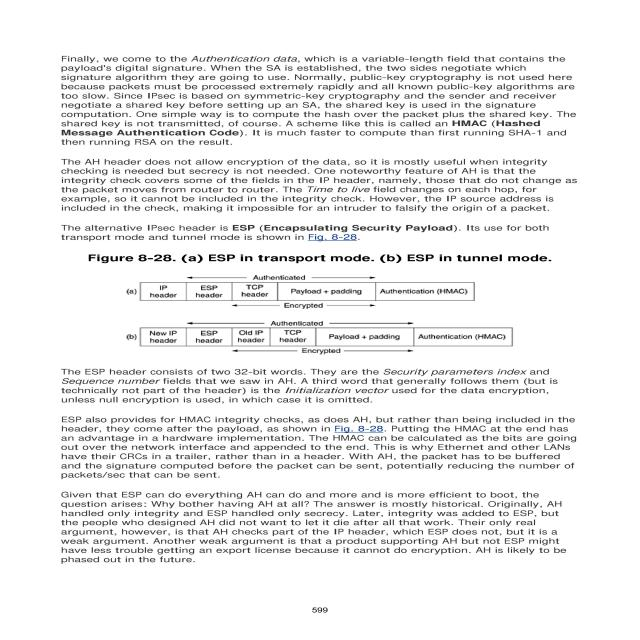diagram: (36, 244, 563, 406)
